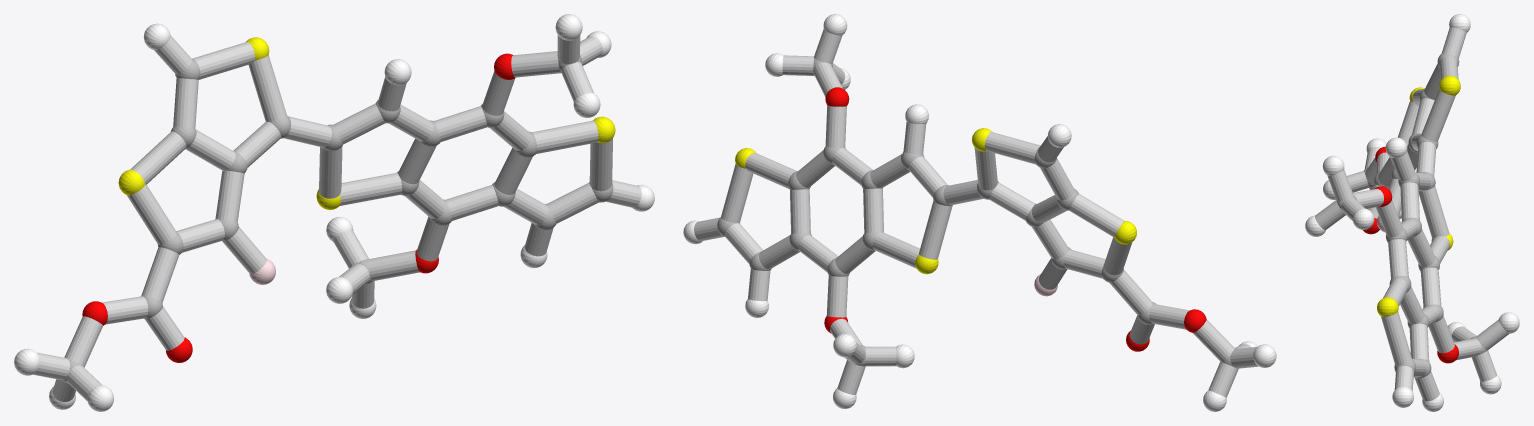
File: color.glb
3 renders of one model, left to right at view 1: azimuth 30°, elevation 25°; view 2: azimuth 150°, elevation 25°; view 3: azimuth 270°, elevation 25°, orthographic. The views are drawn at different scales.
Parts seen in each view (by area): view 1: grp15205, grp8689, grp1, grp13395, grp7241; view 2: grp15205, grp8689, grp1, grp7241, grp13395; view 3: grp15205, grp8689, grp1, grp7241, grp13395.
Boxes of the visible parts, x1=… form: grp15205: x1=33, y1=35, x2=641, y2=401; grp8689: x1=14, y1=14, x2=654, y2=411; grp1: x1=62, y1=55, x2=613, y2=383; grp13395: x1=82, y1=53, x2=515, y2=362; grp7241: x1=118, y1=37, x2=615, y2=209; grp15205: x1=694, y1=29, x2=1258, y2=397; grp8689: x1=683, y1=14, x2=1276, y2=411; grp1: x1=717, y1=58, x2=1238, y2=368; grp7241: x1=735, y1=128, x2=1136, y2=274; grp13395: x1=824, y1=87, x2=1206, y2=351; grp15205: x1=1315, y1=27, x2=1509, y2=401; grp8689: x1=1305, y1=14, x2=1519, y2=411; grp1: x1=1336, y1=53, x2=1486, y2=378; grp7241: x1=1377, y1=75, x2=1460, y2=316; grp13395: x1=1363, y1=146, x2=1458, y2=363.
Bounding box in the file's own units: 16.72 × 8.85 × 5.92.
